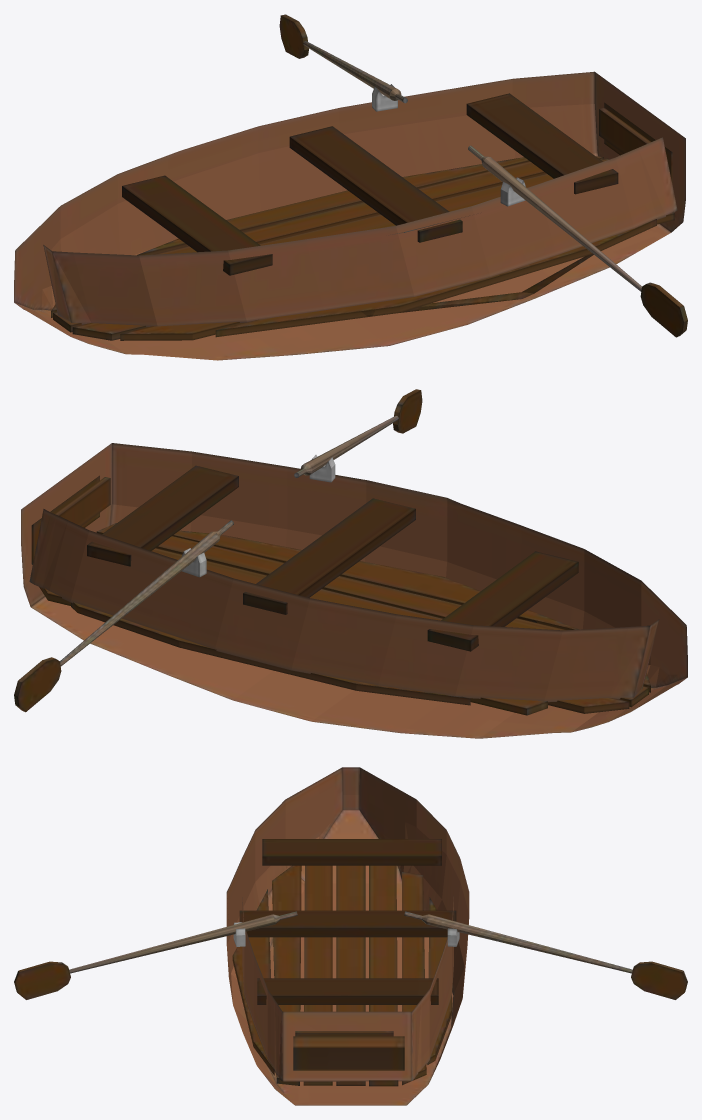
File: dt1yhb5AYXD.glb
The picture shows the model from 3 angles, top to bottom: view 1: azimuth 30°, elevation 25°; view 2: azimuth 150°, elevation 25°; view 3: azimuth 270°, elevation 25°; orthographic projection. The views are drawn at different scales.
Visible parts, largest first — view 1: Node; view 2: Node; view 3: Node.
Boxes of the visible parts, bbox=[...] form: Node: bbox=[14, 14, 687, 360]; Node: bbox=[14, 389, 687, 738]; Node: bbox=[14, 767, 687, 1105].
Bounding box in the file's own units: 4.27 × 0.9999 × 4.77.
1 material, 1 textured.
